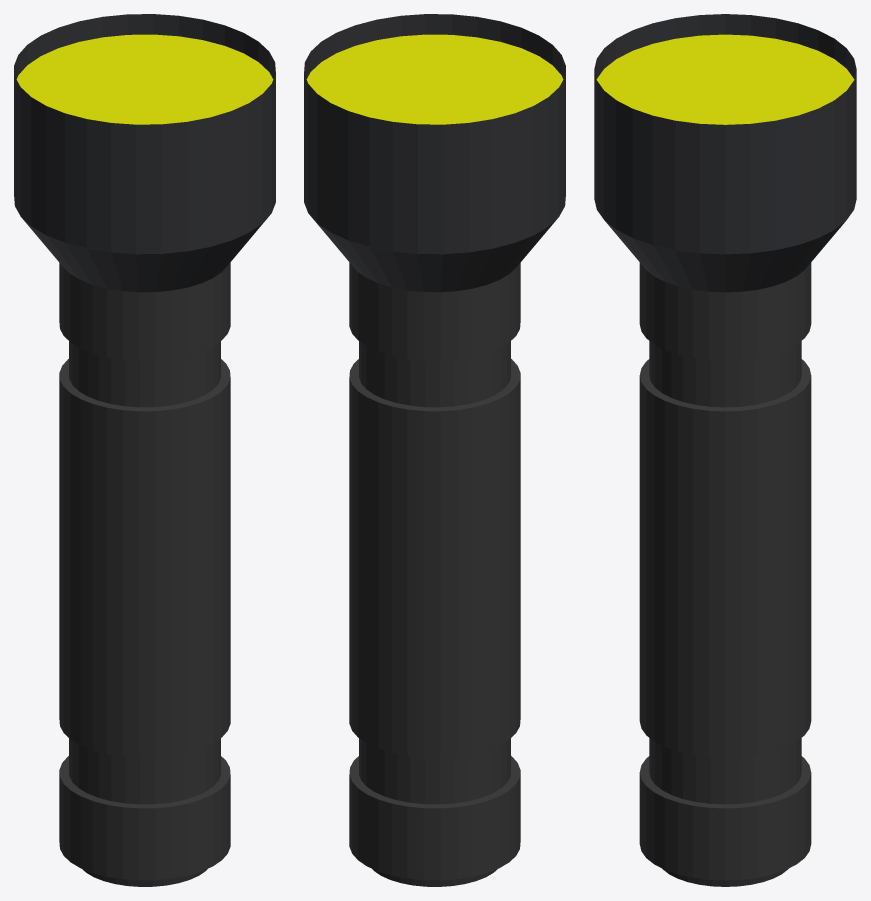
The model's file is flashlight.fbx.
3 renders of one model, left to right at view 1: azimuth 30°, elevation 25°; view 2: azimuth 150°, elevation 25°; view 3: azimuth 270°, elevation 25°, orthographic.
Parts seen in each view (by area): view 1: flashlight; view 2: flashlight; view 3: flashlight.
Part boxes in pixels (<box>): flashlight: <box>14,14,275,886</box>; flashlight: <box>304,14,565,886</box>; flashlight: <box>594,14,856,886</box>.
Size of the model in its own units: 275 by 910 by 275.
